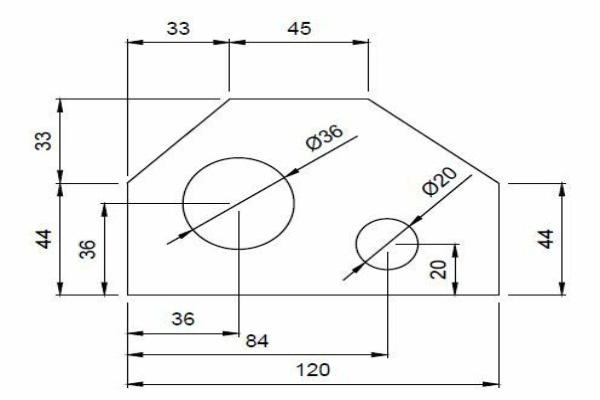dimensions: (299, 118, 354, 156), (413, 164, 463, 200), (164, 301, 209, 332), (275, 16, 324, 44), (240, 323, 281, 353), (24, 125, 58, 155), (295, 357, 335, 381), (27, 226, 57, 254), (427, 253, 453, 285), (74, 235, 99, 266), (531, 224, 560, 250), (165, 15, 196, 38)
